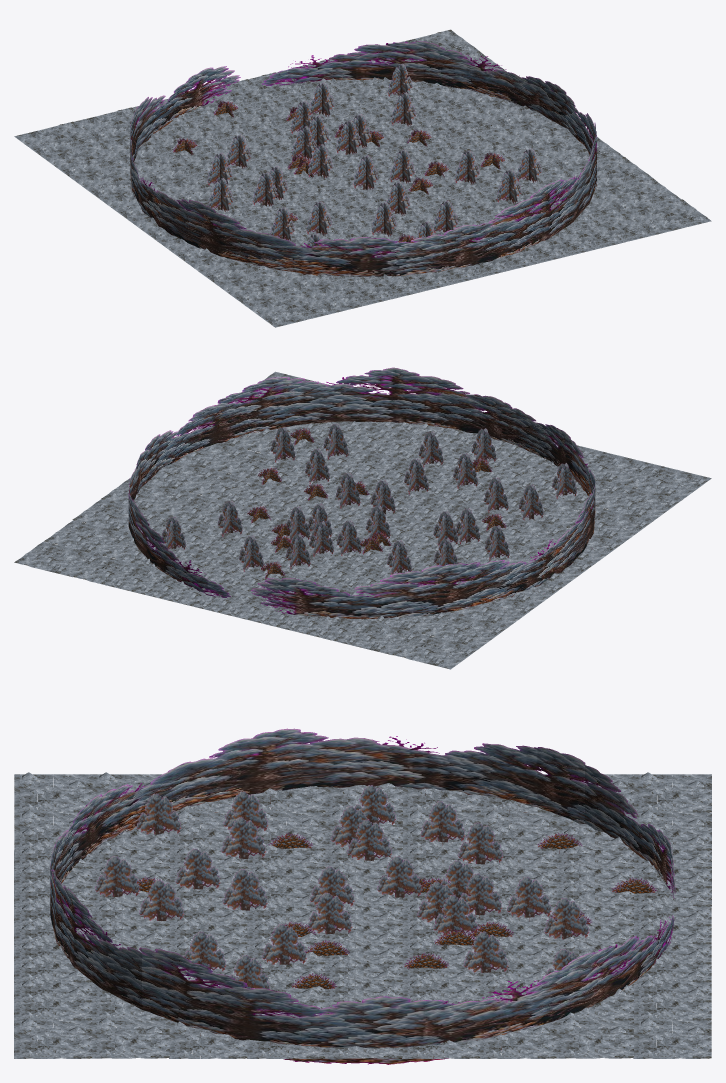
The model's file is world.fbx.
3 views of the same model, one above another, from view 1: azimuth 30°, elevation 25°; view 2: azimuth 150°, elevation 25°; view 3: azimuth 270°, elevation 25° (orthographic). The views are drawn at different scales.
Visible parts, largest first — view 1: Grid.001, Grid.004, Cylinder, Plane.008, Plane.001, Plane.002, Plane.003; view 2: Grid.001, Grid.004, Cylinder, Plane.001, Plane.008, Plane.003, Plane.002; view 3: Grid.004, Grid.001, Cylinder, Plane.001, Plane.008, Plane.002, Plane.003.
Boxes of the visible parts, bbox=[...] form: Grid.001: bbox=[14, 51, 622, 327]; Grid.004: bbox=[100, 29, 711, 305]; Cylinder: bbox=[130, 41, 596, 276]; Plane.008: bbox=[290, 63, 541, 215]; Plane.001: bbox=[207, 115, 458, 246]; Plane.002: bbox=[173, 101, 448, 223]; Plane.003: bbox=[294, 122, 568, 242]; Grid.001: bbox=[100, 421, 711, 669]; Grid.004: bbox=[14, 371, 619, 648]; Cylinder: bbox=[128, 367, 595, 619]; Plane.001: bbox=[309, 428, 576, 574]; Plane.008: bbox=[162, 423, 428, 571]; Plane.003: bbox=[247, 428, 492, 552]; Plane.002: bbox=[261, 484, 506, 606]; Grid.004: bbox=[14, 828, 711, 1058]; Grid.001: bbox=[14, 772, 711, 1002]; Cylinder: bbox=[50, 728, 675, 1064]; Plane.001: bbox=[95, 785, 502, 920]; Plane.008: bbox=[183, 860, 589, 989]; Plane.002: bbox=[268, 833, 656, 955]; Plane.003: bbox=[131, 876, 513, 989].
Size of the model in its own units: 5598 by 982 by 5802.
